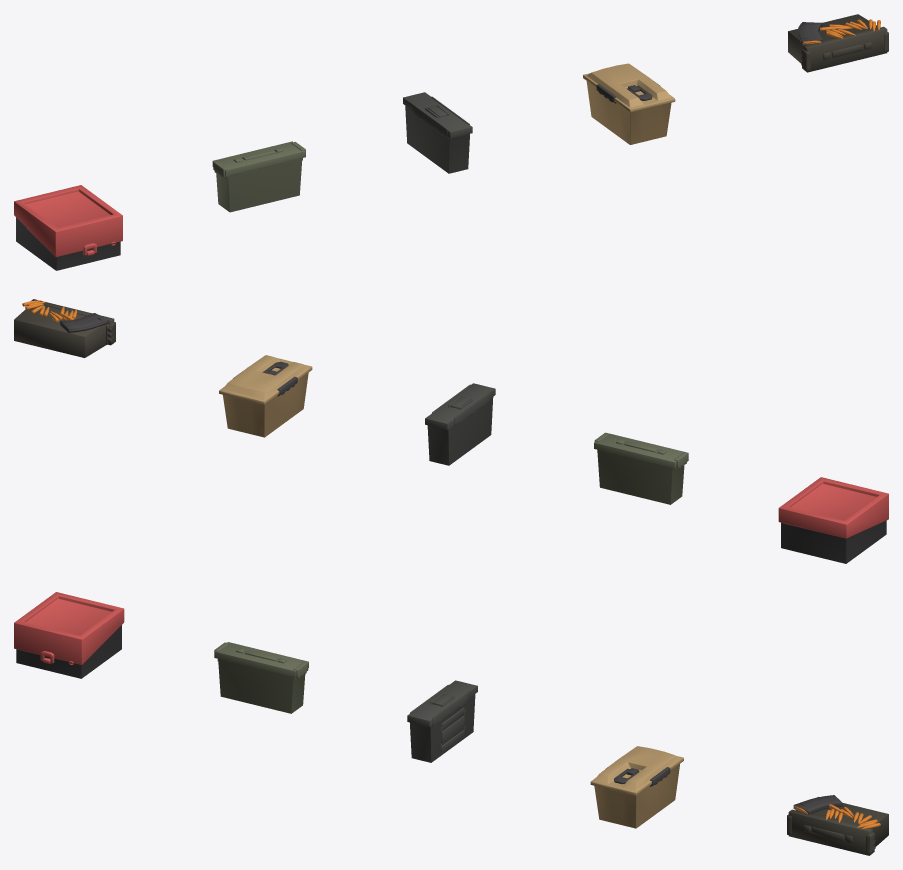
Rendered from Aplicado_CaixasDeMunição.untitled.fbx.
3 views of the same model, one above another, from view 1: azimuth 30°, elevation 25°; view 2: azimuth 150°, elevation 25°; view 3: azimuth 330°, elevation 25° (orthographic).
Visible parts, largest first — view 1: CaixaGranada.001, CaixaGranada.002, CaixaAWP, M16Detalhe, LançaGranada; view 2: CaixaGranada.001, CaixaGranada.002, CaixaAWP, M16Detalhe, LançaGranada; view 3: CaixaGranada.001, CaixaGranada.002, CaixaAWP, M16Detalhe, LançaGranada.
Boxes of the visible parts, x1,y1,x2,y2 form: CaixaGranada.001: [14, 185, 122, 270]; CaixaGranada.002: [583, 63, 675, 144]; CaixaAWP: [212, 141, 305, 212]; M16Detalhe: [788, 14, 888, 72]; LançaGranada: [403, 92, 472, 173]; CaixaGranada.001: [778, 477, 888, 563]; CaixaGranada.002: [219, 355, 312, 437]; CaixaAWP: [594, 432, 688, 504]; M16Detalhe: [14, 299, 115, 357]; LançaGranada: [425, 383, 495, 465]; CaixaGranada.001: [14, 592, 124, 678]; CaixaGranada.002: [590, 746, 683, 828]; CaixaAWP: [214, 642, 308, 713]; M16Detalhe: [787, 795, 888, 855]; LançaGranada: [407, 680, 477, 762].
Size of the model in its own units: 357 by 25.58 by 35.4.
